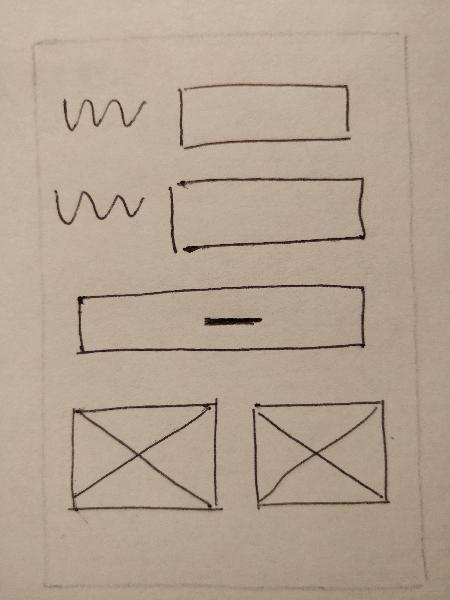button: (68, 279, 378, 360)
image: (60, 397, 236, 521), (242, 391, 403, 518)
text: (48, 183, 152, 233), (56, 88, 154, 137)
text_input: (159, 171, 376, 258), (165, 74, 363, 153)
